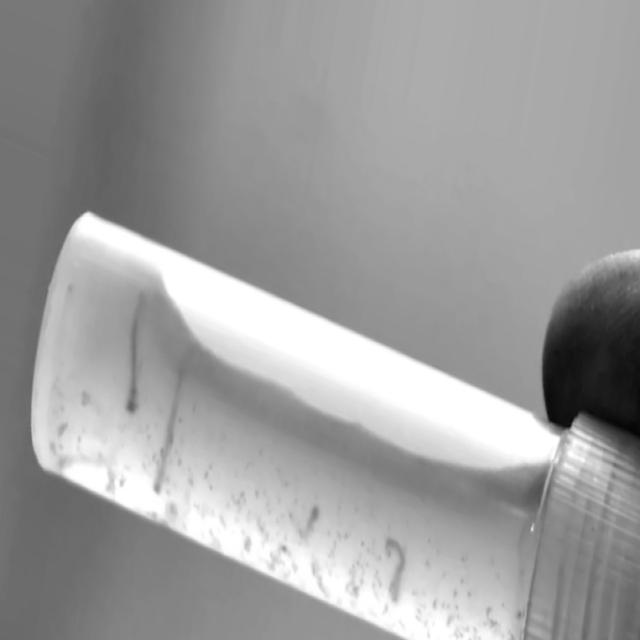larvas: (154, 364, 186, 489), (125, 290, 142, 415), (382, 535, 404, 600), (290, 505, 323, 532)
